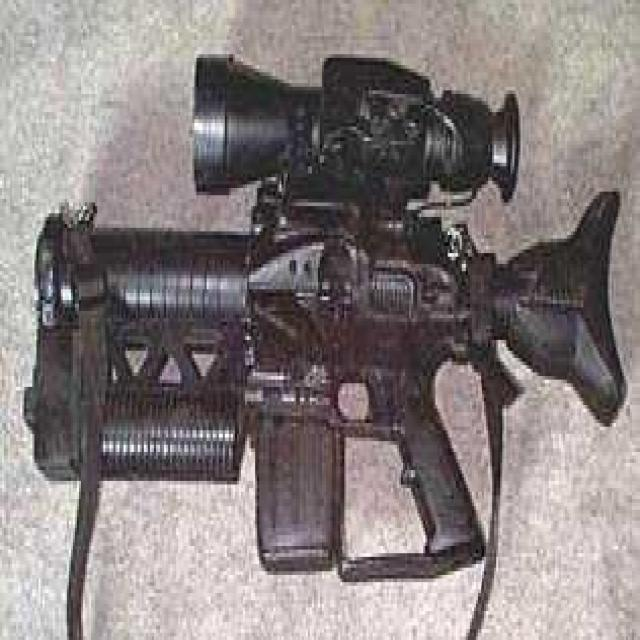RifleTel: (46, 41, 611, 614)
